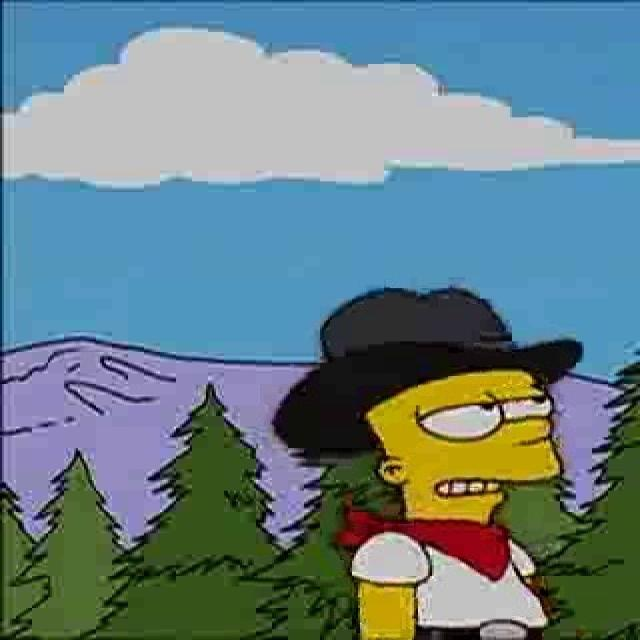Bart Simpson: (341, 289, 571, 519)
